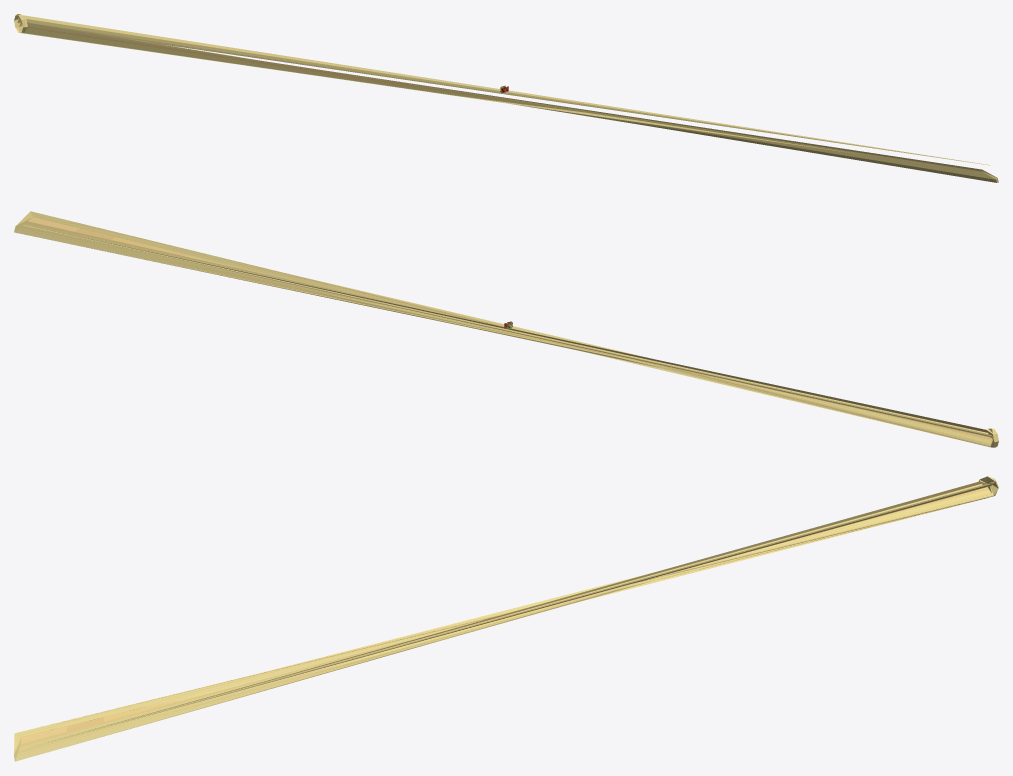
Rendered from 1169item3530.gltf.
3 views of the same model, one above another, from view 1: azimuth 30°, elevation 25°; view 2: azimuth 210°, elevation 25°; view 3: azimuth 270°, elevation 25° (orthographic). The views are drawn at different scales.
Parts seen in each view (by area): view 1: 1169item3530; view 2: 1169item3530; view 3: 1169item3530.
Part boxes in pixels (bbox=[...]): 1169item3530: bbox=[14, 14, 998, 182]; 1169item3530: bbox=[14, 211, 998, 447]; 1169item3530: bbox=[14, 476, 998, 761].
Size of the model in its own units: 8.07 by 0.7009 by 11.1.
3 materials, 3 textured.
